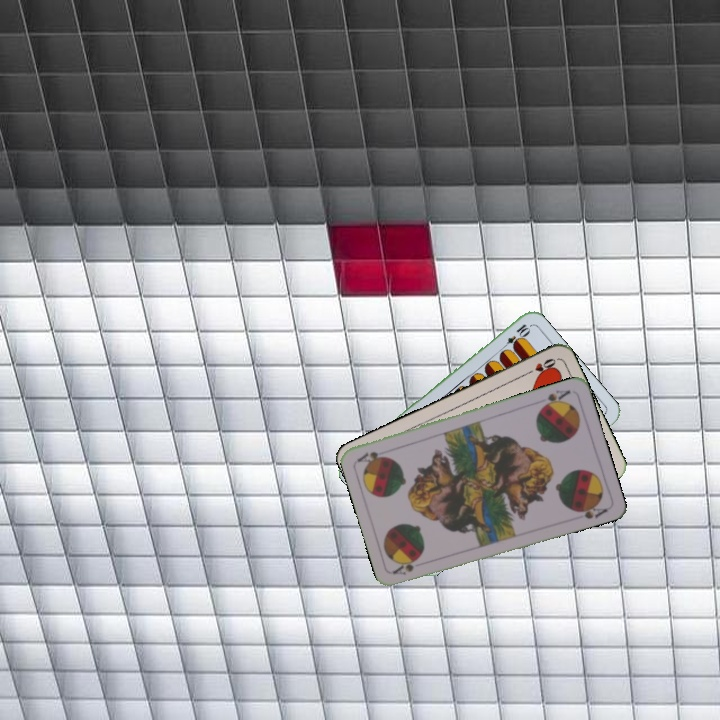E10: (497, 320, 532, 353)
HO: (521, 354, 559, 378)
SA: (537, 386, 573, 411), (389, 555, 422, 577)
